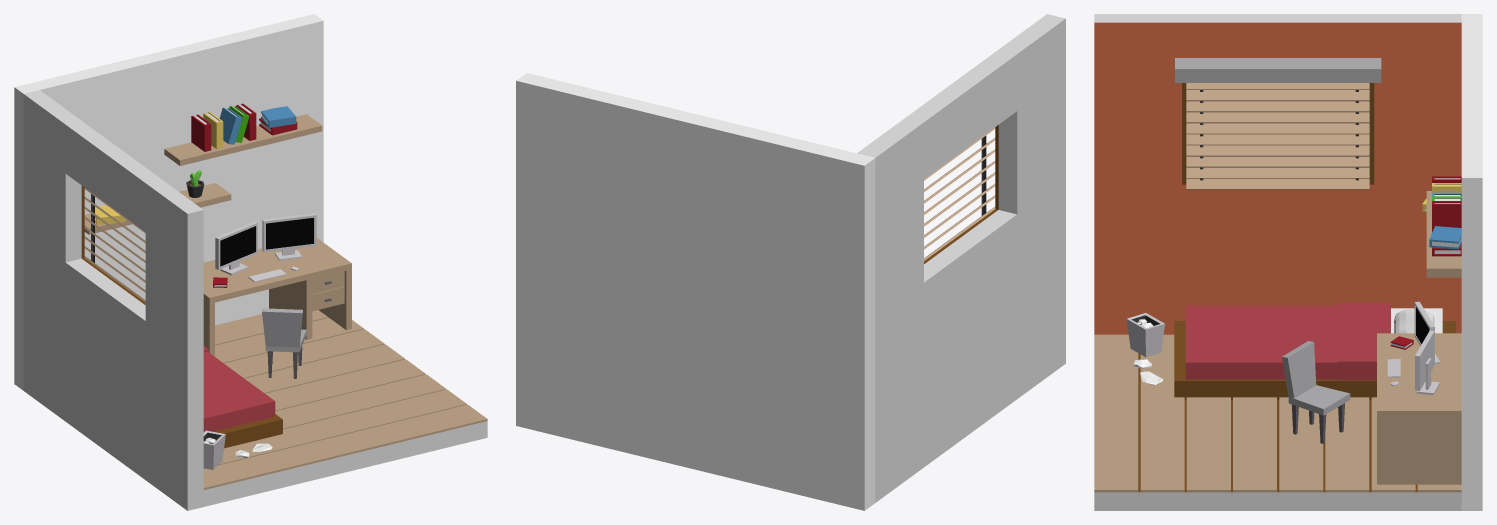
Rendered from Room1.glb.
3 views of the same model, side by side, from view 1: azimuth 30°, elevation 25°; view 2: azimuth 150°, elevation 25°; view 3: azimuth 270°, elevation 25° (orthographic). The views are drawn at different scales.
Parts seen in each view (by area): view 1: Object_4; view 2: Object_4; view 3: Object_4.
Boxes of the visible parts, x1=… form: Object_4: x1=14, y1=14, x2=487, y2=510; Object_4: x1=516, y1=14, x2=1065, y2=510; Object_4: x1=1094, y1=14, x2=1482, y2=510.
Size of the model in its own units: 2.11 by 2 by 2.11.
